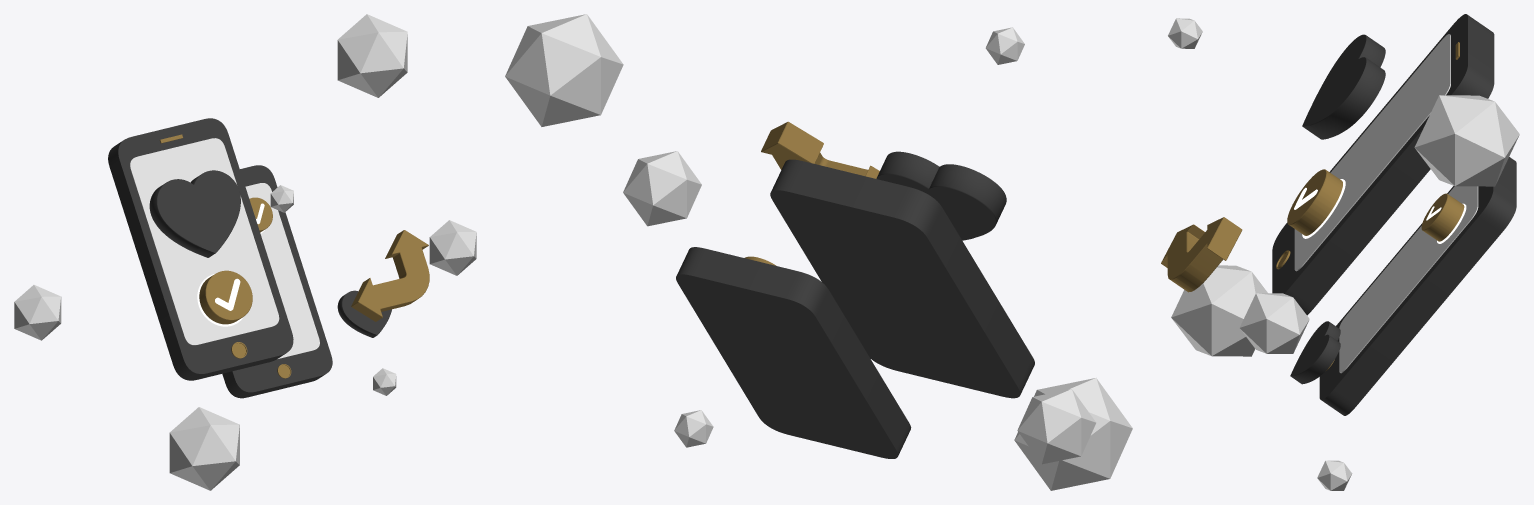
File: modelDraco_2.gltf
The picture shows the model from 3 angles, left to right: view 1: azimuth 30°, elevation 25°; view 2: azimuth 150°, elevation 25°; view 3: azimuth 270°, elevation 25°; orthographic projection. The views are drawn at different scales.
Visible parts, largest first — view 1: Rectangle011, cgaxis_models_74_03_081, Layer_U+0421_U+043B_U+043E_U+0439_149, Rectangle012, Hedra001.002, Hedra001.004, cgaxis_models_74_03_082, Line877526548, Hedra001.005, Hedra001.001, Cylinder034, Layer_U+0421_U+043B_U+043E_U+0439_148 (+2 smaller); view 2: Rectangle011, Rectangle012, Hedra001.004, Layer_U+0421_U+043B_U+043E_U+0439_149, Hedra001.002, Hedra001.001, Hedra001.005, Line877526548, Hedra001.003, Hedra001; view 3: Rectangle011, Rectangle012, cgaxis_models_74_03_081, Hedra001.004, cgaxis_models_74_03_082, Hedra001.002, Layer_U+0421_U+043B_U+043E_U+0439_149, Line877526548, Hedra001.001, Cylinder034, Layer_U+0421_U+043B_U+043E_U+0439_148, Cylinder036 (+2 smaller).
Part boxes in pixels (box(x1,y1,x2,y2)): Rectangle011: box(108, 118, 293, 380); cgaxis_models_74_03_081: box(130, 138, 279, 345); Layer_U+0421_U+043B_U+043E_U+0439_149: box(149, 170, 240, 257); Rectangle012: box(222, 165, 332, 398); Hedra001.002: box(169, 407, 239, 490); Hedra001.004: box(337, 14, 407, 97); cgaxis_models_74_03_082: box(245, 183, 319, 359); Line877526548: box(351, 230, 429, 321); Hedra001.005: box(14, 285, 61, 340); Hedra001.001: box(429, 220, 476, 275); Cylinder034: box(199, 270, 252, 324); Layer_U+0421_U+043B_U+043E_U+0439_148: box(337, 290, 391, 337); Rectangle011: box(770, 159, 1034, 398); Rectangle012: box(676, 247, 911, 458); Hedra001.004: box(505, 14, 623, 126); Layer_U+0421_U+043B_U+043E_U+0439_149: box(876, 151, 1006, 240); Hedra001.002: box(1014, 378, 1132, 490); Hedra001.001: box(623, 151, 701, 226); Hedra001.005: box(1017, 389, 1096, 464); Line877526548: box(761, 121, 879, 178); Hedra001.003: box(674, 410, 713, 447); Hedra001: box(985, 27, 1024, 64); Rectangle011: box(1272, 14, 1494, 315); Rectangle012: box(1319, 157, 1516, 415); cgaxis_models_74_03_081: box(1294, 34, 1450, 271); Hedra001.004: box(1414, 95, 1519, 186); cgaxis_models_74_03_082: box(1339, 186, 1478, 373); Hedra001.002: box(1171, 265, 1267, 356); Layer_U+0421_U+043B_U+043E_U+0439_149: box(1302, 34, 1385, 139); Line877526548: box(1161, 217, 1242, 292); Hedra001.001: box(1239, 293, 1309, 353); Cylinder034: box(1287, 169, 1342, 235); Layer_U+0421_U+043B_U+043E_U+0439_148: box(1290, 321, 1340, 384); Cylinder036: box(1421, 193, 1464, 241).
Bounding box in the file's own units: 374 × 298 × 231.
